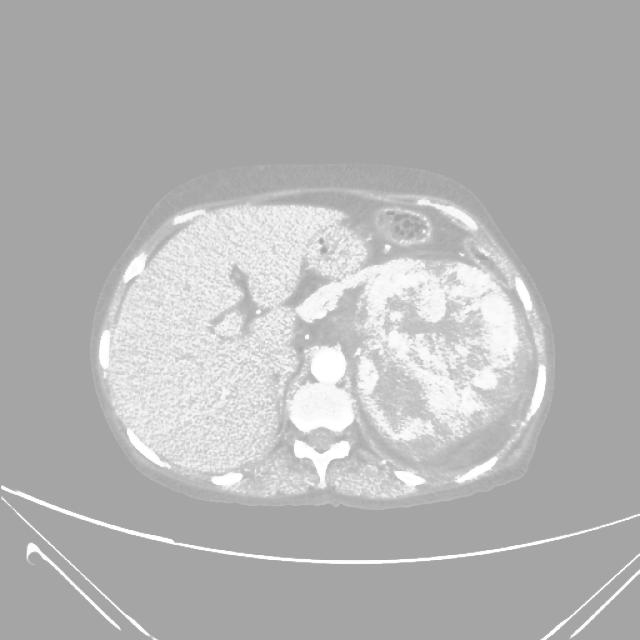TUMOR: (331, 250, 582, 459)
